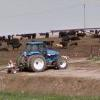Tractor: (13, 33, 73, 78)
